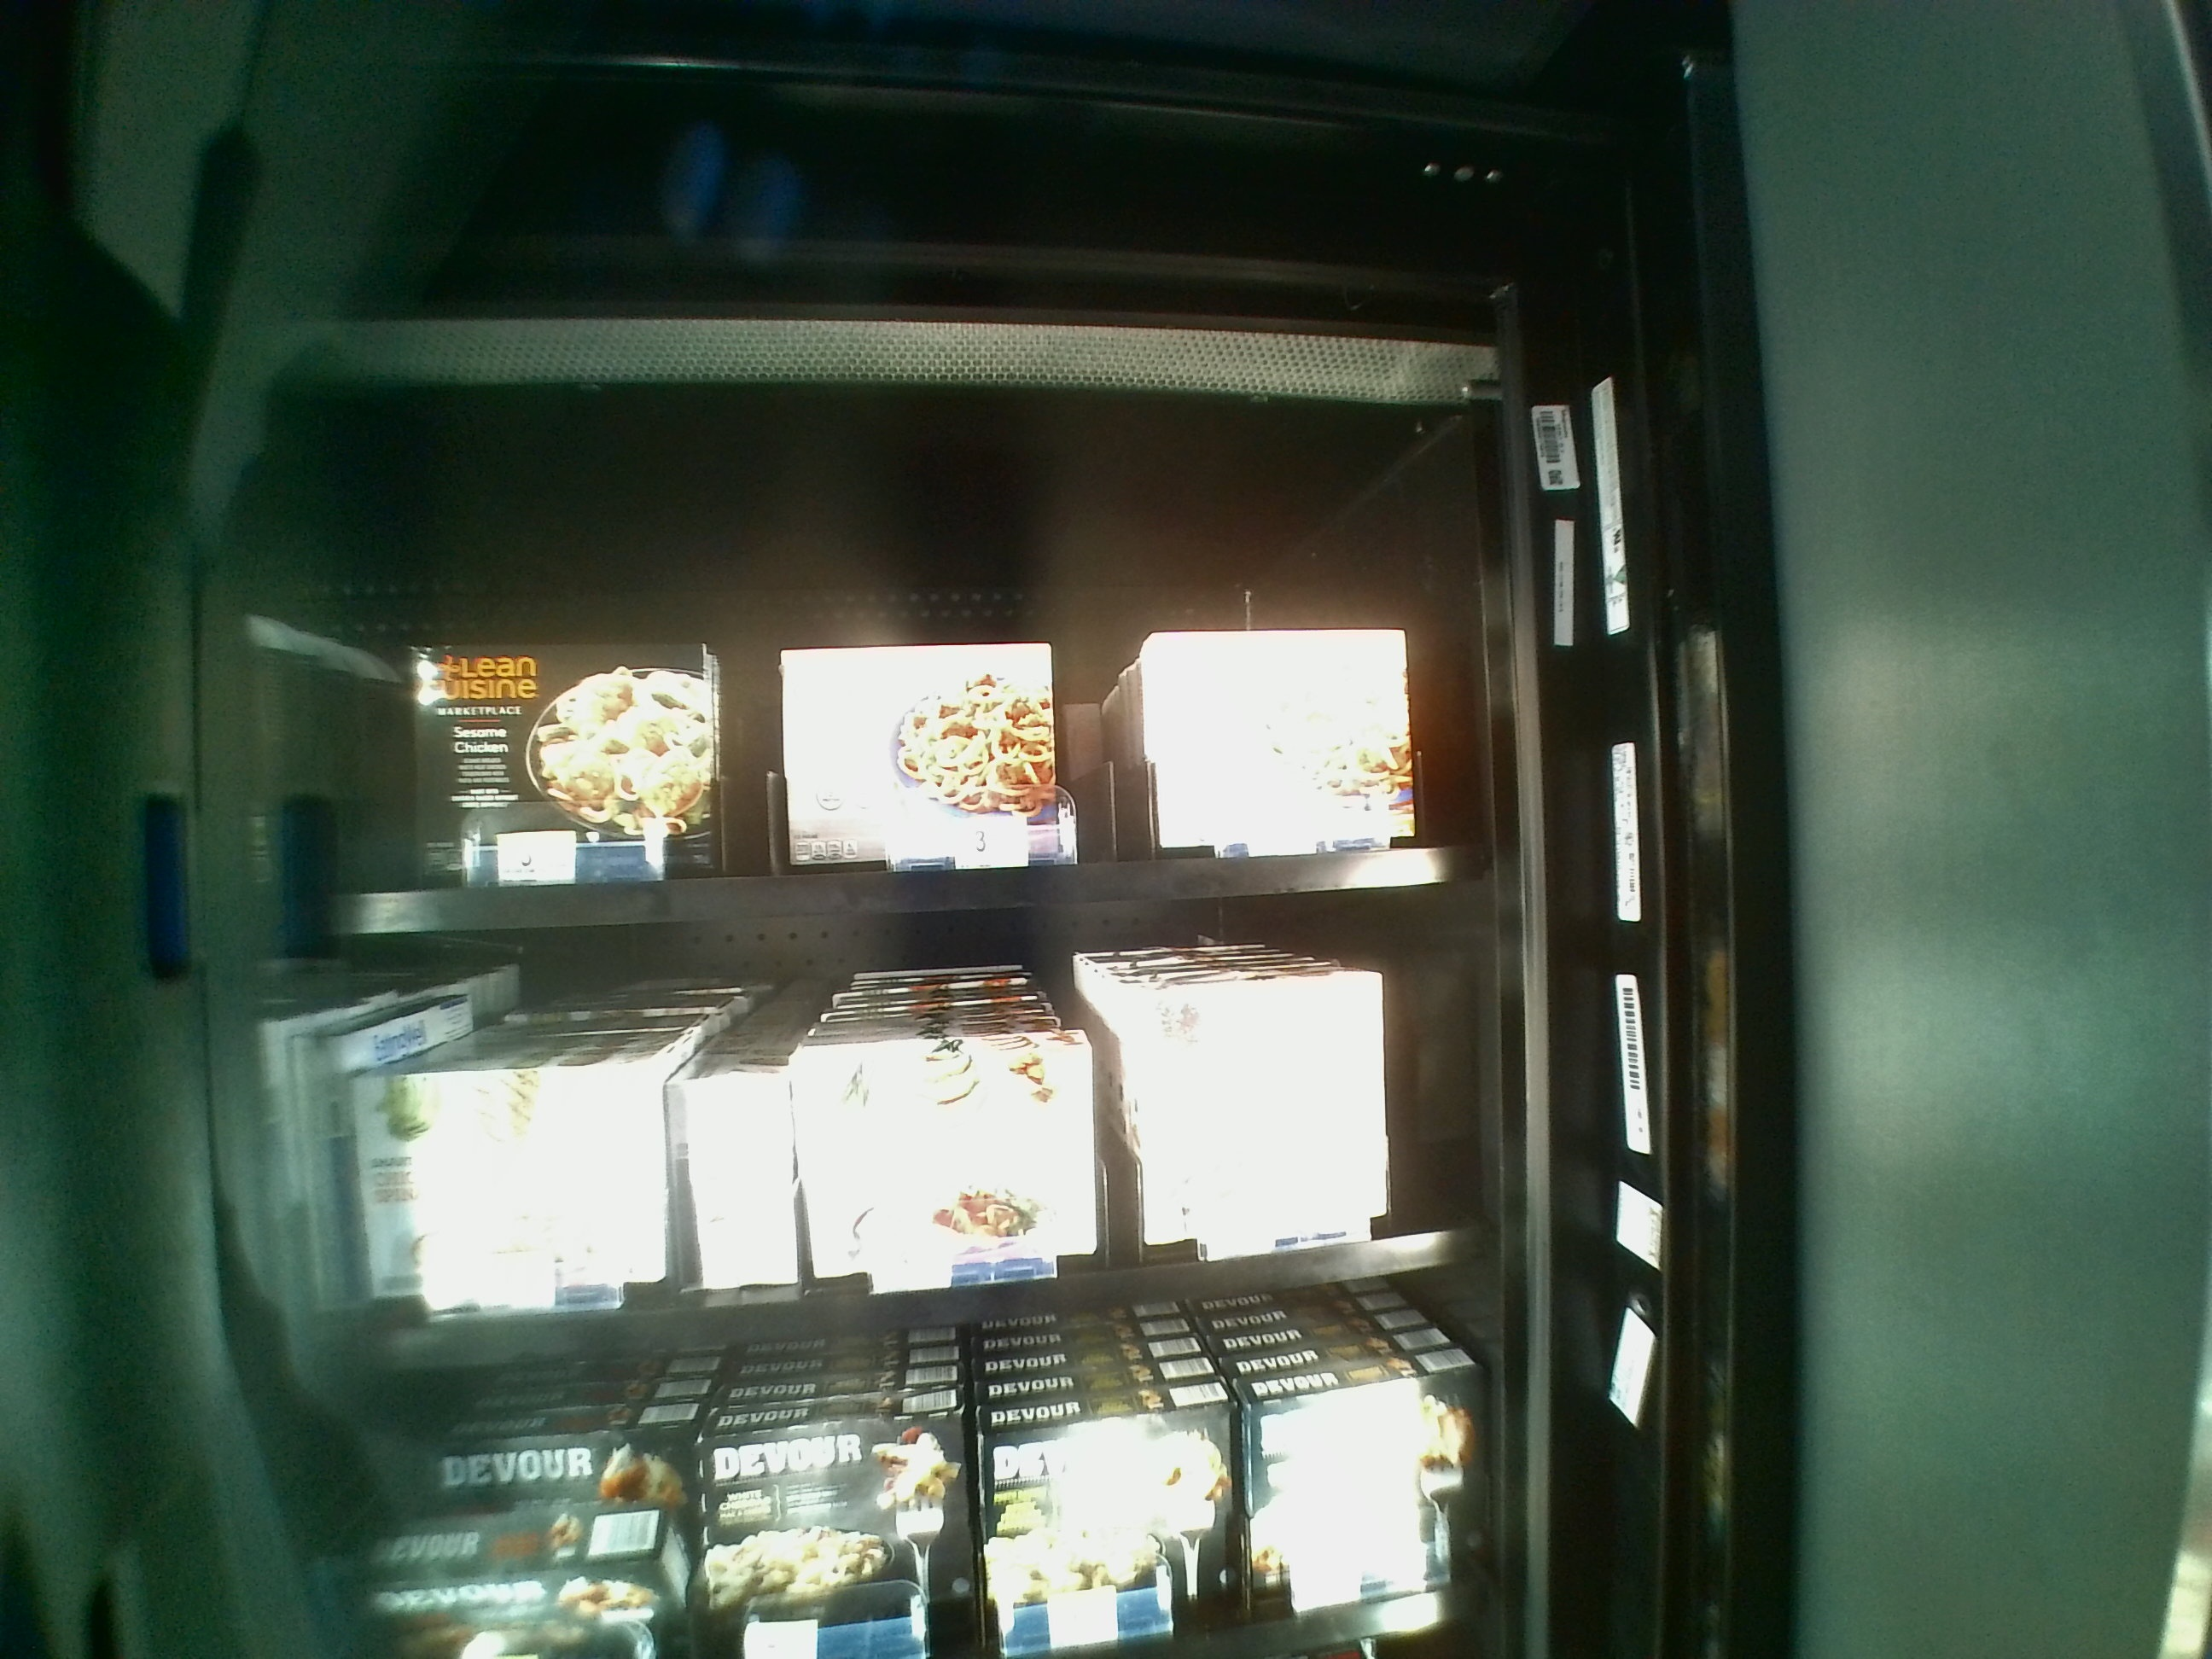shelf: (320, 938, 1503, 1373), (324, 502, 1498, 924)
